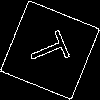T: (25, 25, 79, 72)
